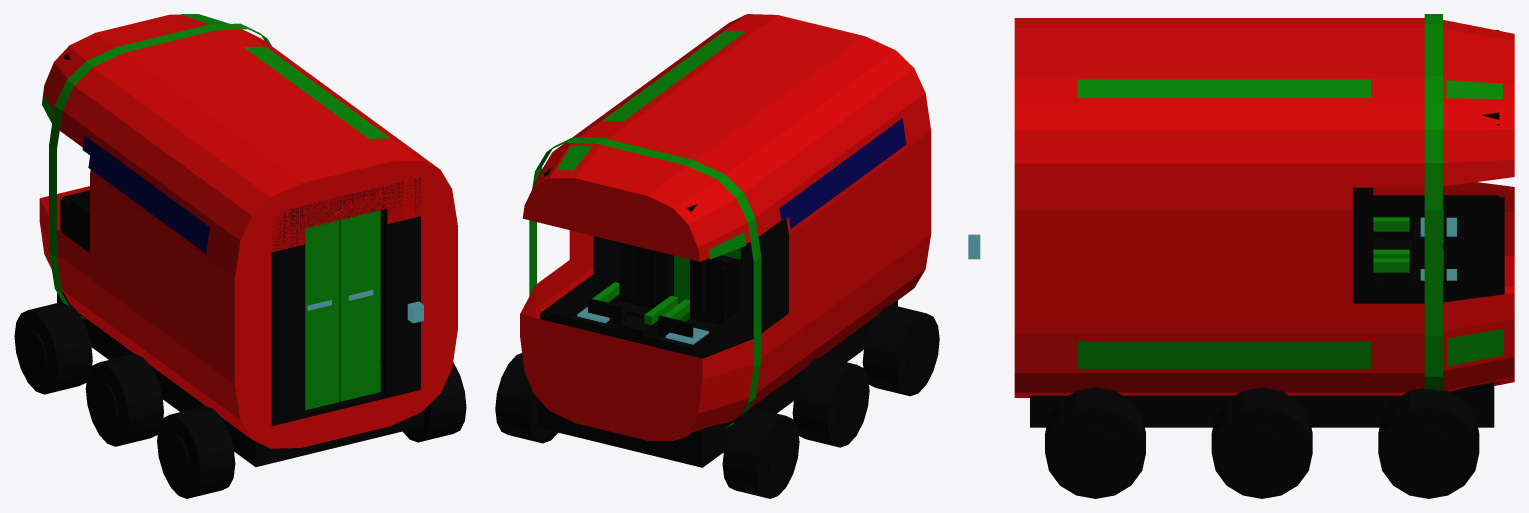
Rendered from trail.glb.
3 renders of one model, left to right at view 1: azimuth 30°, elevation 25°; view 2: azimuth 150°, elevation 25°; view 3: azimuth 270°, elevation 25°, orthographic. The views are drawn at different scales.
Parts seen in each view (by area): view 1: pioneer_trail:pressure_hull_0, pioneer_trail:room_eva, pioneer_trail:door_eva-outer_1, pioneer_trail:door_eva-outer_-1, pioneer_trail:inspection_panels_0, pioneer_trail:wheel_-1_2, pioneer_trail:wheel_-1_1, pioneer_trail:wheel_-1_0, pioneer_trail:chassis, pioneer_trail:habitat_seams_1, pioneer_trail:wheel_1_2, pioneer_trail:room_bridge; view 2: pioneer_trail:pressure_hull_0, pioneer_trail:room_bridge, pioneer_trail:inspection_panels_0, pioneer_trail:chassis, pioneer_trail:wheel_-1_0, pioneer_trail:wheel_-1_1, pioneer_trail:wheel_-1_2, pioneer_trail:seat_1, pioneer_trail:habitat_seams_1, pioneer_trail:seat_0, pioneer_trail:wheel_1_0, pioneer_trail:finish_bridge (+2 smaller); view 3: pioneer_trail:pressure_hull_0, pioneer_trail:inspection_panels_0, pioneer_trail:room_bridge, pioneer_trail:wheel_1_1, pioneer_trail:wheel_1_2, pioneer_trail:wheel_1_0, pioneer_trail:chassis, pioneer_trail:habitat_seams_1, pioneer_trail:seat_0, pioneer_trail:furnishings_bridge, pioneer_trail:seat_1.
Boxes of the visible parts, x1,y1,x2,y2 form: pioneer_trail:pressure_hull_0: [39, 14, 457, 448]; pioneer_trail:room_eva: [271, 177, 420, 425]; pioneer_trail:door_eva-outer_1: [339, 210, 380, 401]; pioneer_trail:door_eva-outer_-1: [305, 220, 339, 410]; pioneer_trail:inspection_panels_0: [42, 14, 390, 253]; pioneer_trail:wheel_-1_2: [157, 406, 235, 498]; pioneer_trail:wheel_-1_1: [85, 354, 163, 446]; pioneer_trail:wheel_-1_0: [14, 302, 92, 394]; pioneer_trail:chassis: [57, 291, 423, 467]; pioneer_trail:habitat_seams_1: [49, 23, 271, 319]; pioneer_trail:wheel_1_2: [402, 362, 466, 442]; pioneer_trail:room_bridge: [60, 62, 89, 252]; pioneer_trail:pressure_hull_0: [520, 14, 931, 440]; pioneer_trail:room_bridge: [540, 177, 788, 434]; pioneer_trail:inspection_panels_0: [556, 30, 906, 259]; pioneer_trail:chassis: [537, 300, 897, 467]; pioneer_trail:wheel_-1_0: [722, 407, 799, 498]; pioneer_trail:wheel_-1_1: [792, 356, 869, 447]; pioneer_trail:wheel_-1_2: [862, 305, 939, 396]; pioneer_trail:seat_1: [592, 242, 677, 339]; pioneer_trail:habitat_seams_1: [529, 137, 761, 427]; pioneer_trail:seat_0: [663, 255, 740, 331]; pioneer_trail:wheel_1_0: [495, 353, 557, 443]; pioneer_trail:finish_bridge: [588, 298, 693, 337]; pioneer_trail:pressure_hull_0: [1014, 18, 1514, 397]; pioneer_trail:inspection_panels_0: [1077, 79, 1503, 369]; pioneer_trail:room_bridge: [1353, 124, 1504, 383]; pioneer_trail:wheel_1_1: [1211, 387, 1312, 498]; pioneer_trail:wheel_1_2: [1045, 387, 1145, 498]; pioneer_trail:wheel_1_0: [1378, 388, 1479, 498]; pioneer_trail:chassis: [1030, 382, 1494, 427]; pioneer_trail:habitat_seams_1: [1424, 14, 1442, 390]; pioneer_trail:seat_0: [1373, 217, 1411, 280]; pioneer_trail:furnishings_bridge: [1413, 217, 1463, 280]; pioneer_trail:seat_1: [1373, 258, 1411, 280].
Size of the model in its own units: 3.6 by 4.07 by 5.41.
